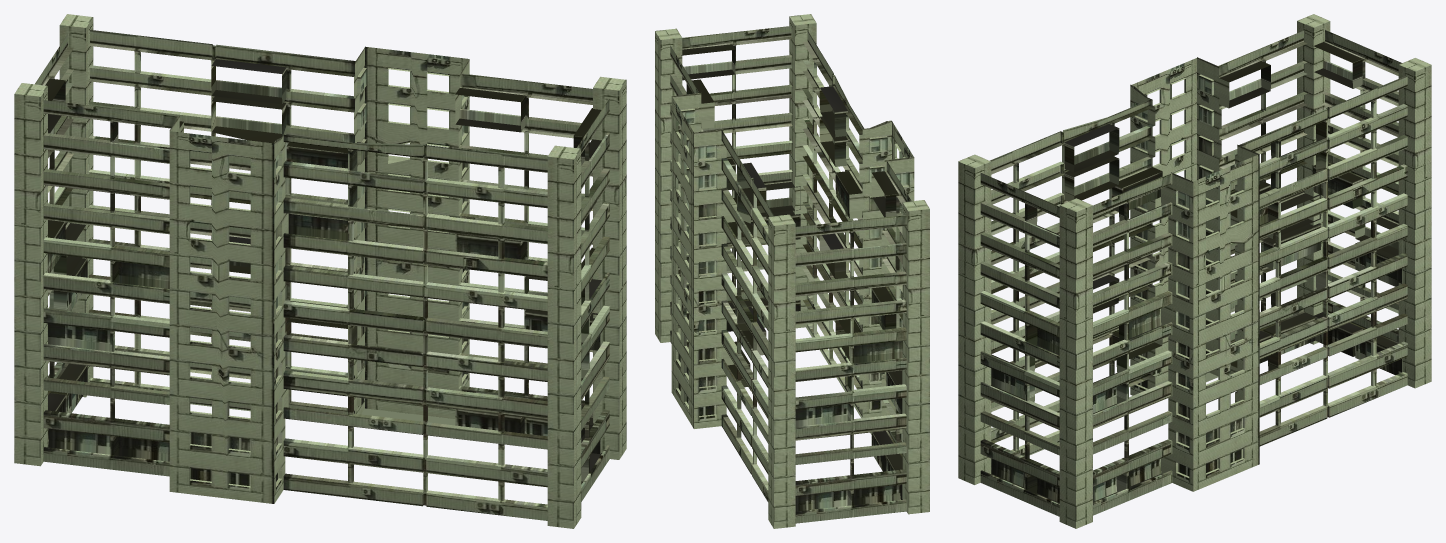
3 views of the same model, side by side, from view 1: azimuth 30°, elevation 25°; view 2: azimuth 150°, elevation 25°; view 3: azimuth 270°, elevation 25° (orthographic). The views are drawn at different scales.
Parts seen in each view (by area): view 1: Cube.018_Material.001_0; view 2: Cube.018_Material.001_0; view 3: Cube.018_Material.001_0.
Part boxes in pixels (x1,y1,x2,y2): Cube.018_Material.001_0: (14, 14, 626, 528); Cube.018_Material.001_0: (655, 14, 929, 528); Cube.018_Material.001_0: (958, 14, 1431, 528).
Size of the model in its own units: 3.33 by 2.48 by 3.36.
Materials: 1 (1 with a texture image).
